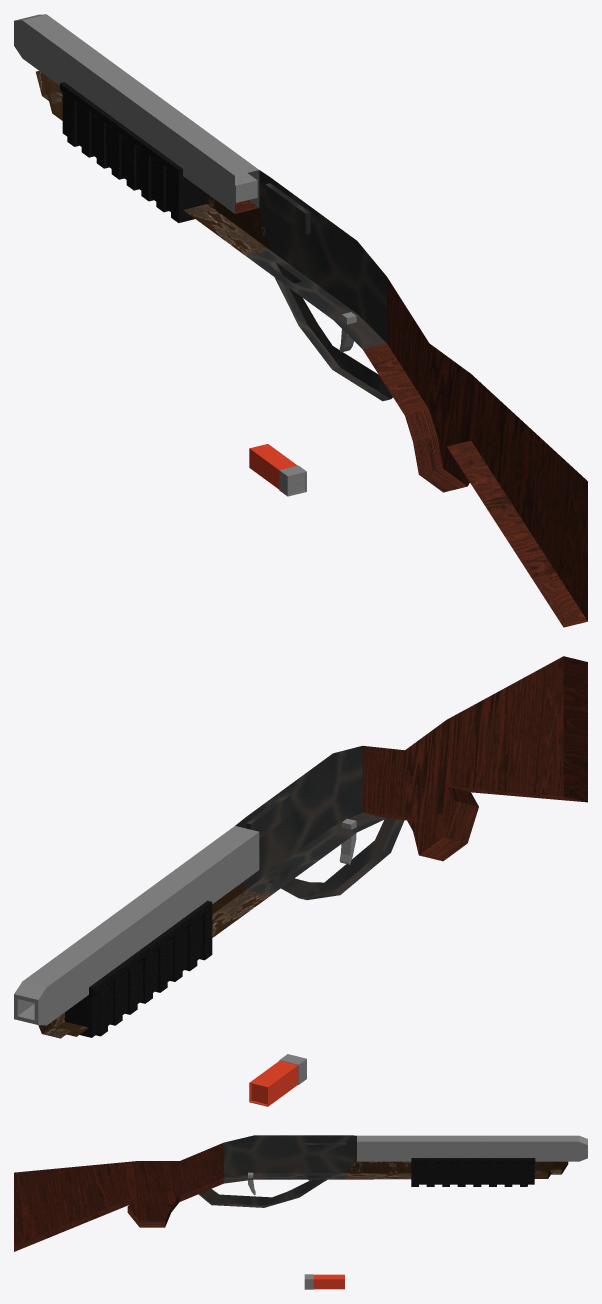
Rendered from shotgun.glb.
3 views of the same model, one above another, from view 1: azimuth 30°, elevation 25°; view 2: azimuth 150°, elevation 25°; view 3: azimuth 270°, elevation 25° (orthographic). The views are drawn at different scales.
Parts seen in each view (by area): view 1: Gun, GunBreech, GunCell; view 2: Gun, GunBreech, GunCell; view 3: Gun, GunBreech, GunCell.
Boxes of the visible parts, x1,y1,x2,y2 form: Gun: [14, 14, 587, 627]; GunBreech: [60, 82, 207, 222]; GunCell: [249, 444, 306, 496]; Gun: [14, 656, 587, 1038]; GunBreech: [65, 900, 212, 1037]; GunCell: [249, 1054, 306, 1106]; Gun: [14, 1135, 587, 1251]; GunBreech: [411, 1158, 535, 1186]; GunCell: [304, 1274, 344, 1289].
Size of the model in its own units: 0.2211 by 1.79 by 6.26.
Materials: 6 (5 with a texture image).
